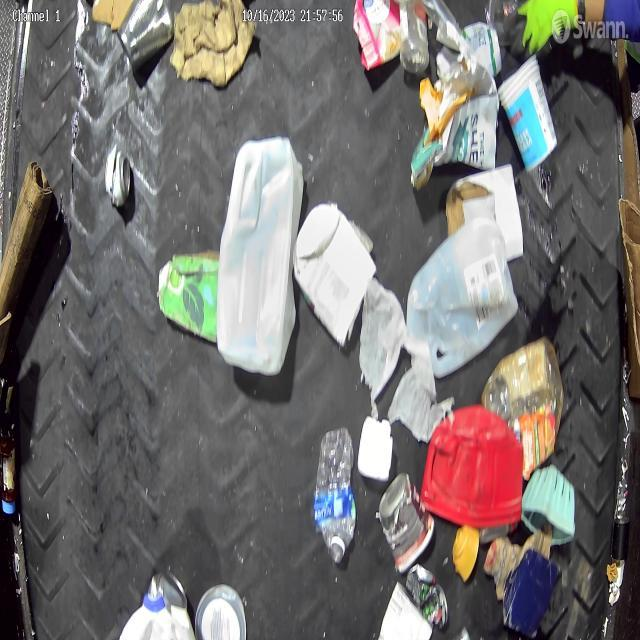can: (377, 470, 437, 578), (115, 0, 176, 73), (406, 562, 449, 630), (104, 142, 134, 212), (152, 566, 189, 615)
milk_jug: (214, 132, 306, 378), (405, 217, 520, 382)
plastic_bottle: (313, 423, 356, 566), (398, 0, 429, 77)
